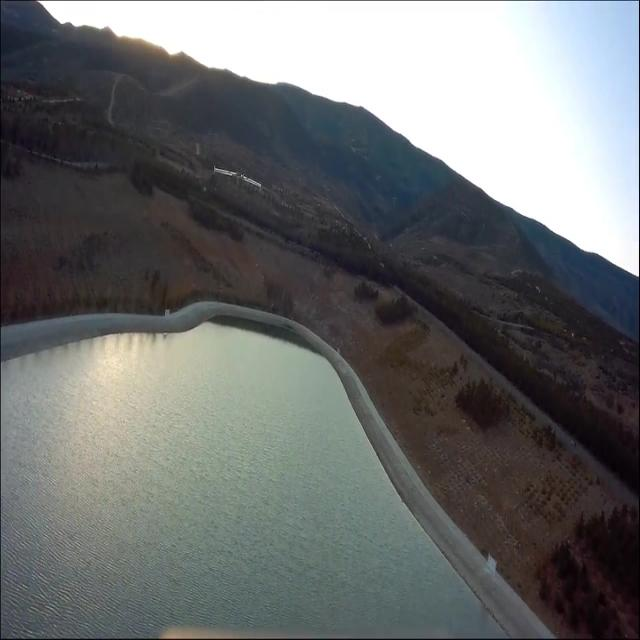iha: (213, 164, 262, 190)
